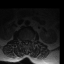CCS_stenosis: (25, 39, 27, 46)
LFS_severe_stenosis: (29, 38, 30, 42)
LLS_stenosis: (27, 39, 28, 43)
RFS_severe_stenosis: (22, 38, 24, 43)
RLS_stenosis: (24, 39, 25, 43)
